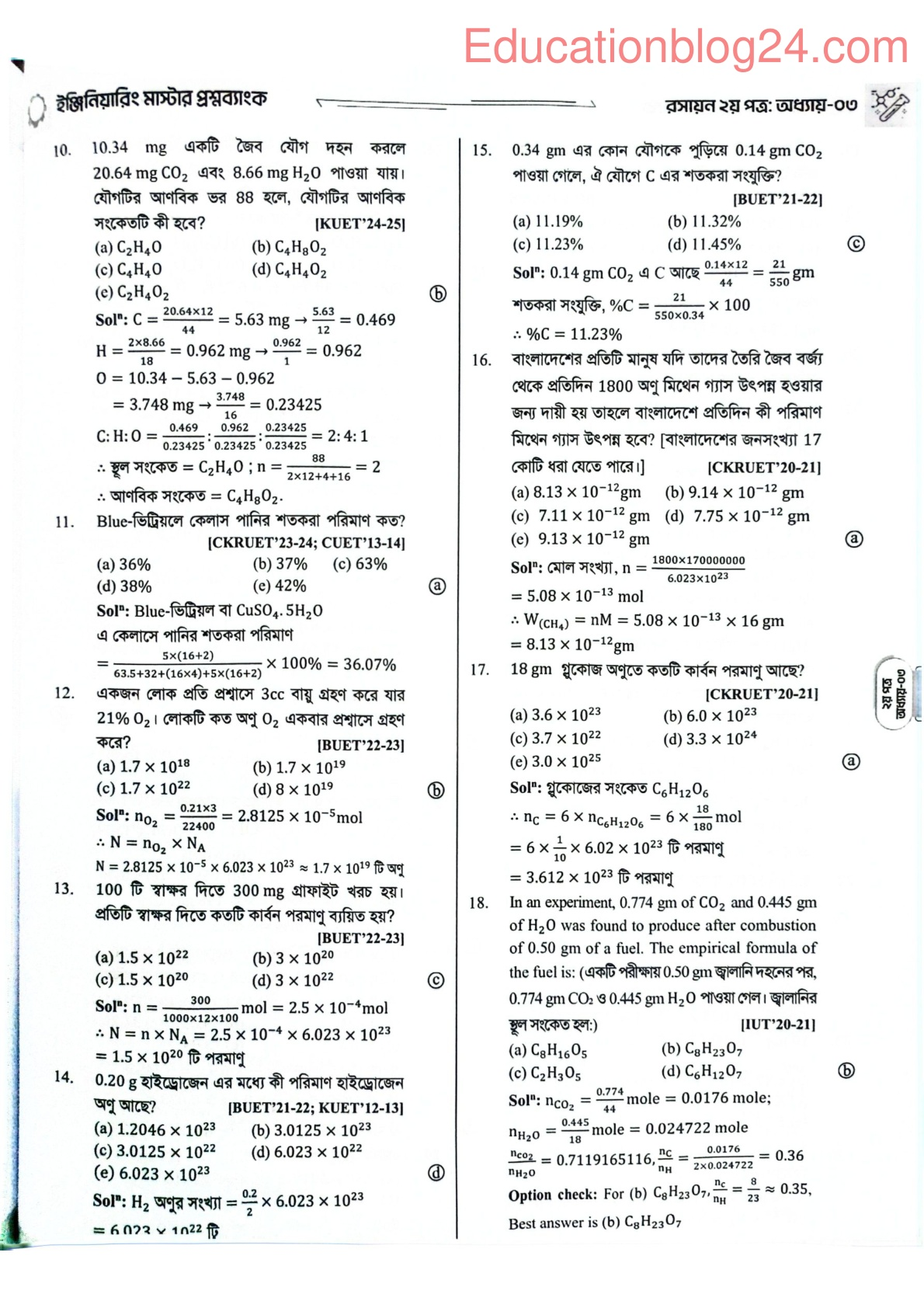question: (468, 345, 833, 552), (466, 892, 824, 1085), (45, 135, 420, 266), (45, 1065, 420, 1185), (468, 137, 833, 258), (50, 874, 411, 995), (467, 657, 837, 775), (38, 683, 416, 793), (22, 510, 426, 595)
